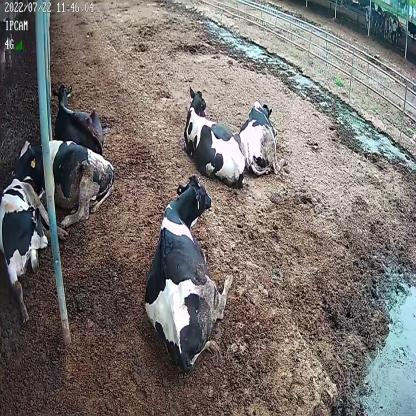cow: (146, 173, 235, 373), (0, 172, 68, 321), (13, 137, 114, 231), (183, 81, 247, 192), (238, 97, 286, 178), (52, 82, 105, 154)
